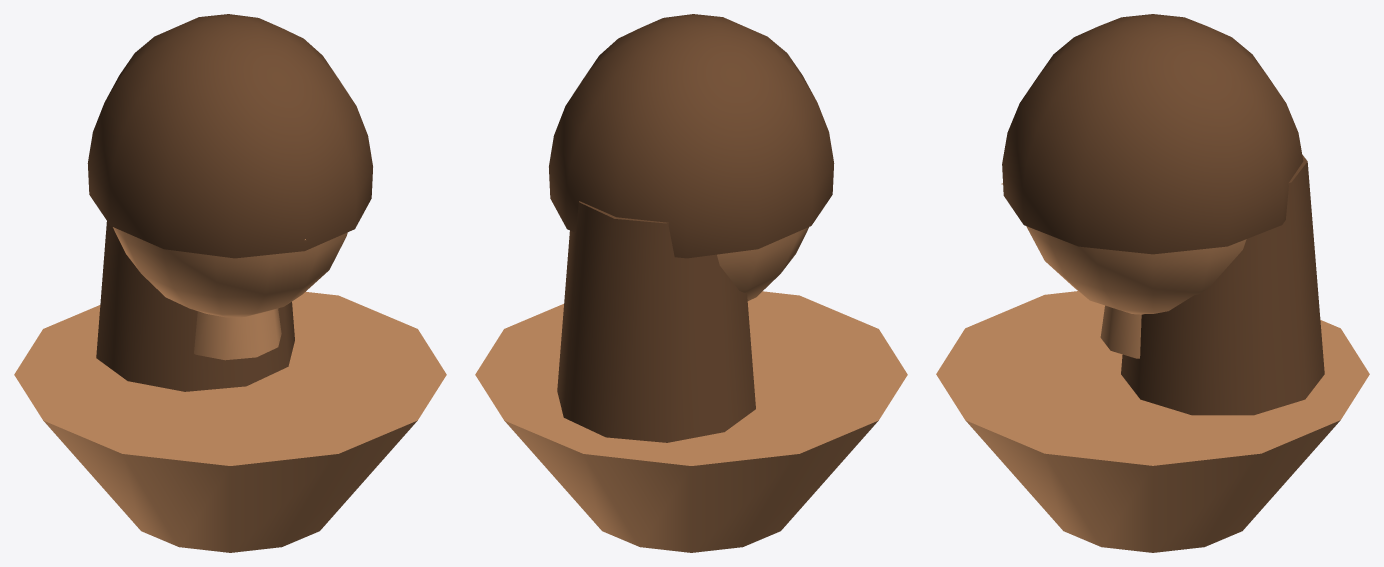
Rendered from raw_003.glb.
The picture shows the model from 3 angles, left to right: view 1: azimuth 30°, elevation 25°; view 2: azimuth 150°, elevation 25°; view 3: azimuth 270°, elevation 25°; orthographic projection.
Bounding box in the file's own units: 1.74 × 2.14 × 1.74.
